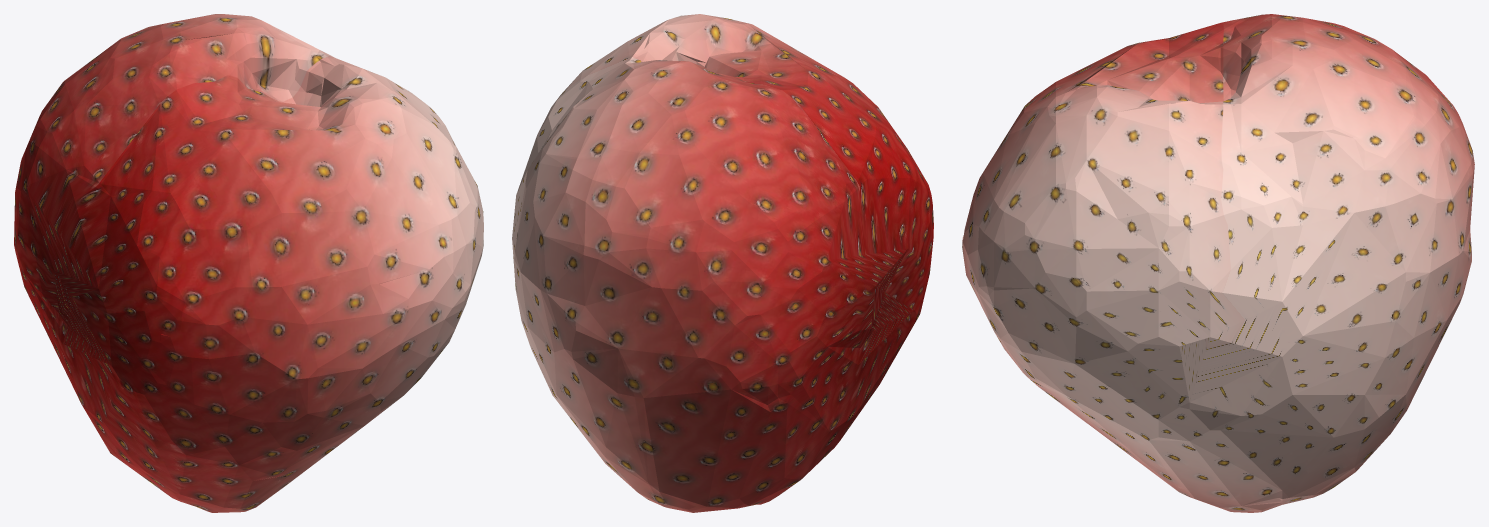
3 views of the same model, side by side, from view 1: azimuth 30°, elevation 25°; view 2: azimuth 150°, elevation 25°; view 3: azimuth 270°, elevation 25° (orthographic). The views are drawn at different scales.
Parts seen in each view (by area): view 1: _001_Meshed; view 2: _001_Meshed; view 3: _001_Meshed.
Boxes of the visible parts, x1,y1,x2,y2 form: _001_Meshed: [14, 14, 483, 512]; _001_Meshed: [512, 14, 933, 512]; _001_Meshed: [962, 14, 1474, 512].
Size of the model in its own units: 0.0964 by 0.1104 by 0.1128.
1 material, 1 textured.
